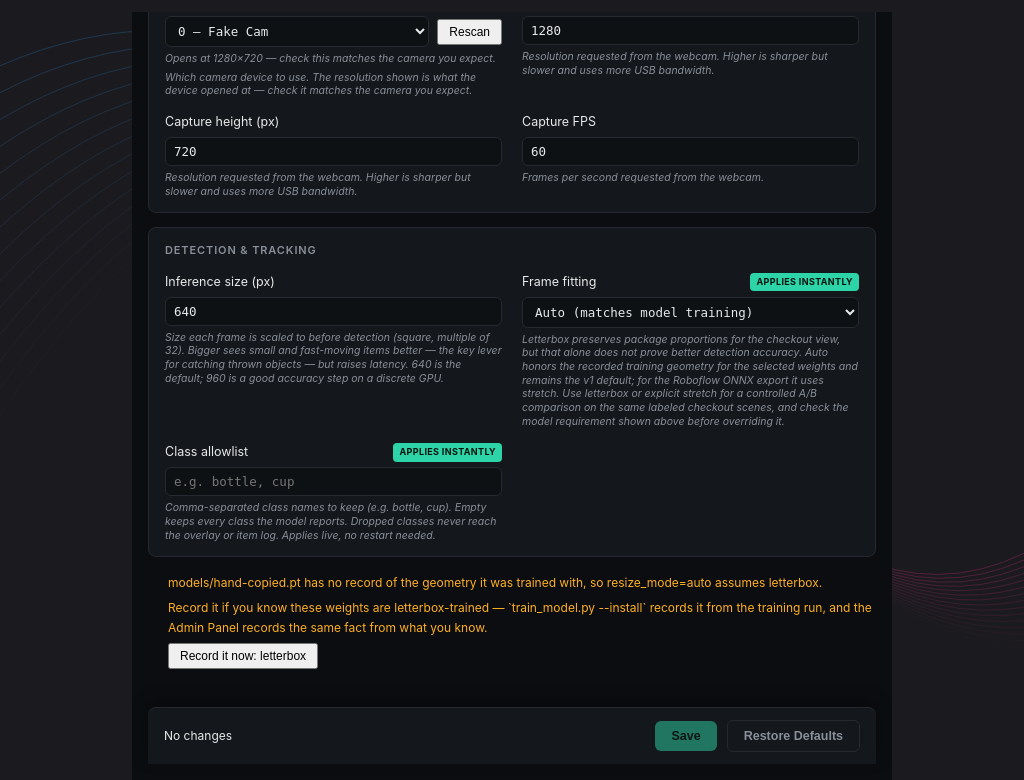
Scenario: AdminPanel › the model picker › confirms by reading the weights list back rather than by trusting the click
(page scrolled)
Click the button with test id "record-resize-mode".
click(243, 656)  # box [168, 643, 318, 669]
(page scrolled)
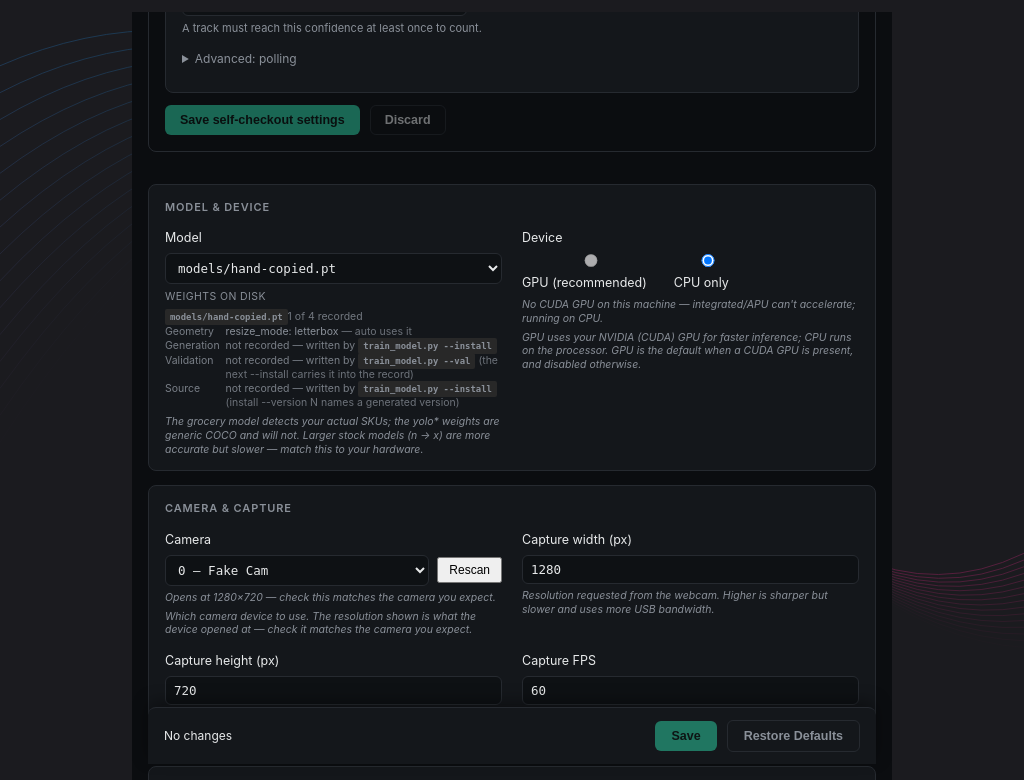
Now the button with test id "record-resize-mode" is gone
Now the row with test id "installed-fact-models/hand-copied.pt-geometry" shows "resize_mode: letterbox", box [226, 325, 338, 338]
Now the row with test id "installed-fact-models/hand-copied.pt-geometry" shows "auto uses it", box [338, 325, 412, 338]
